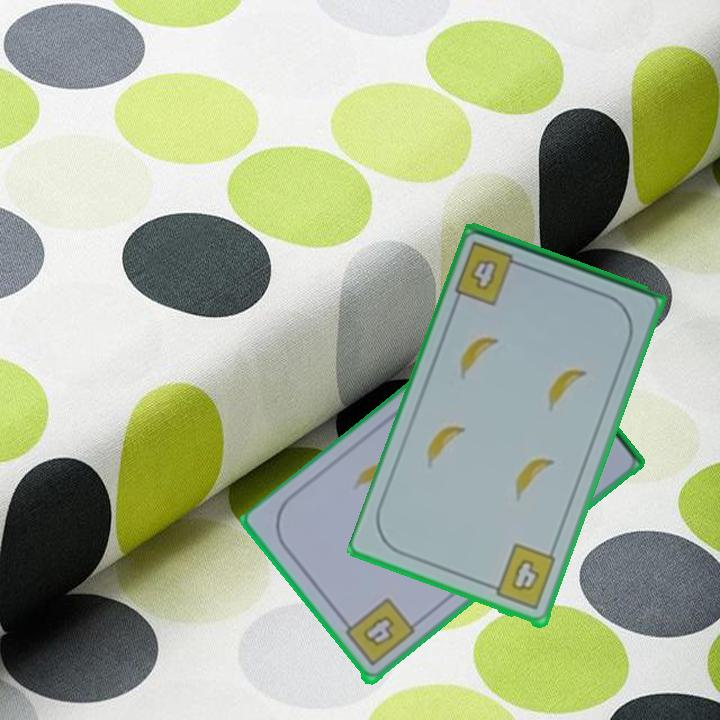4b: (338, 595, 418, 670), (451, 238, 530, 309), (483, 541, 559, 614)
